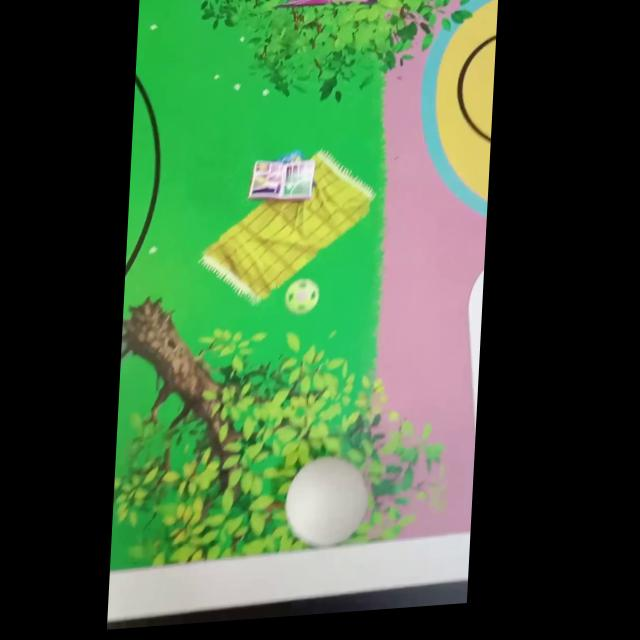white ball: (281, 453, 370, 549)
